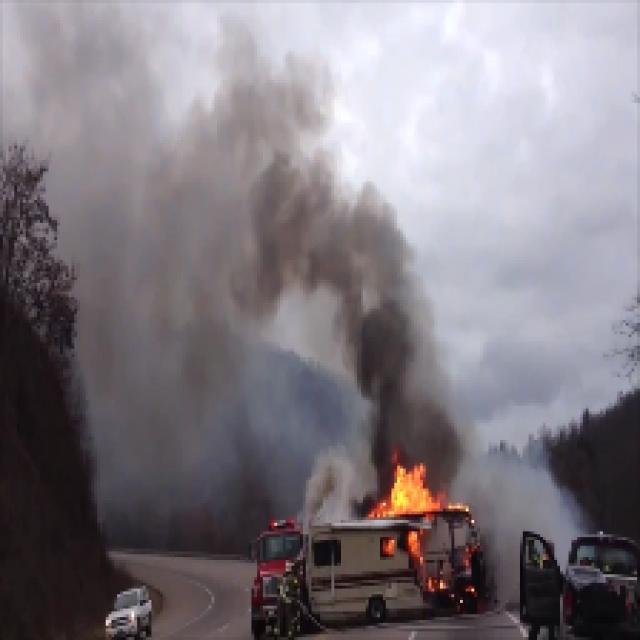Fire: (378, 459, 464, 513)
Smoke: (94, 20, 488, 459)
